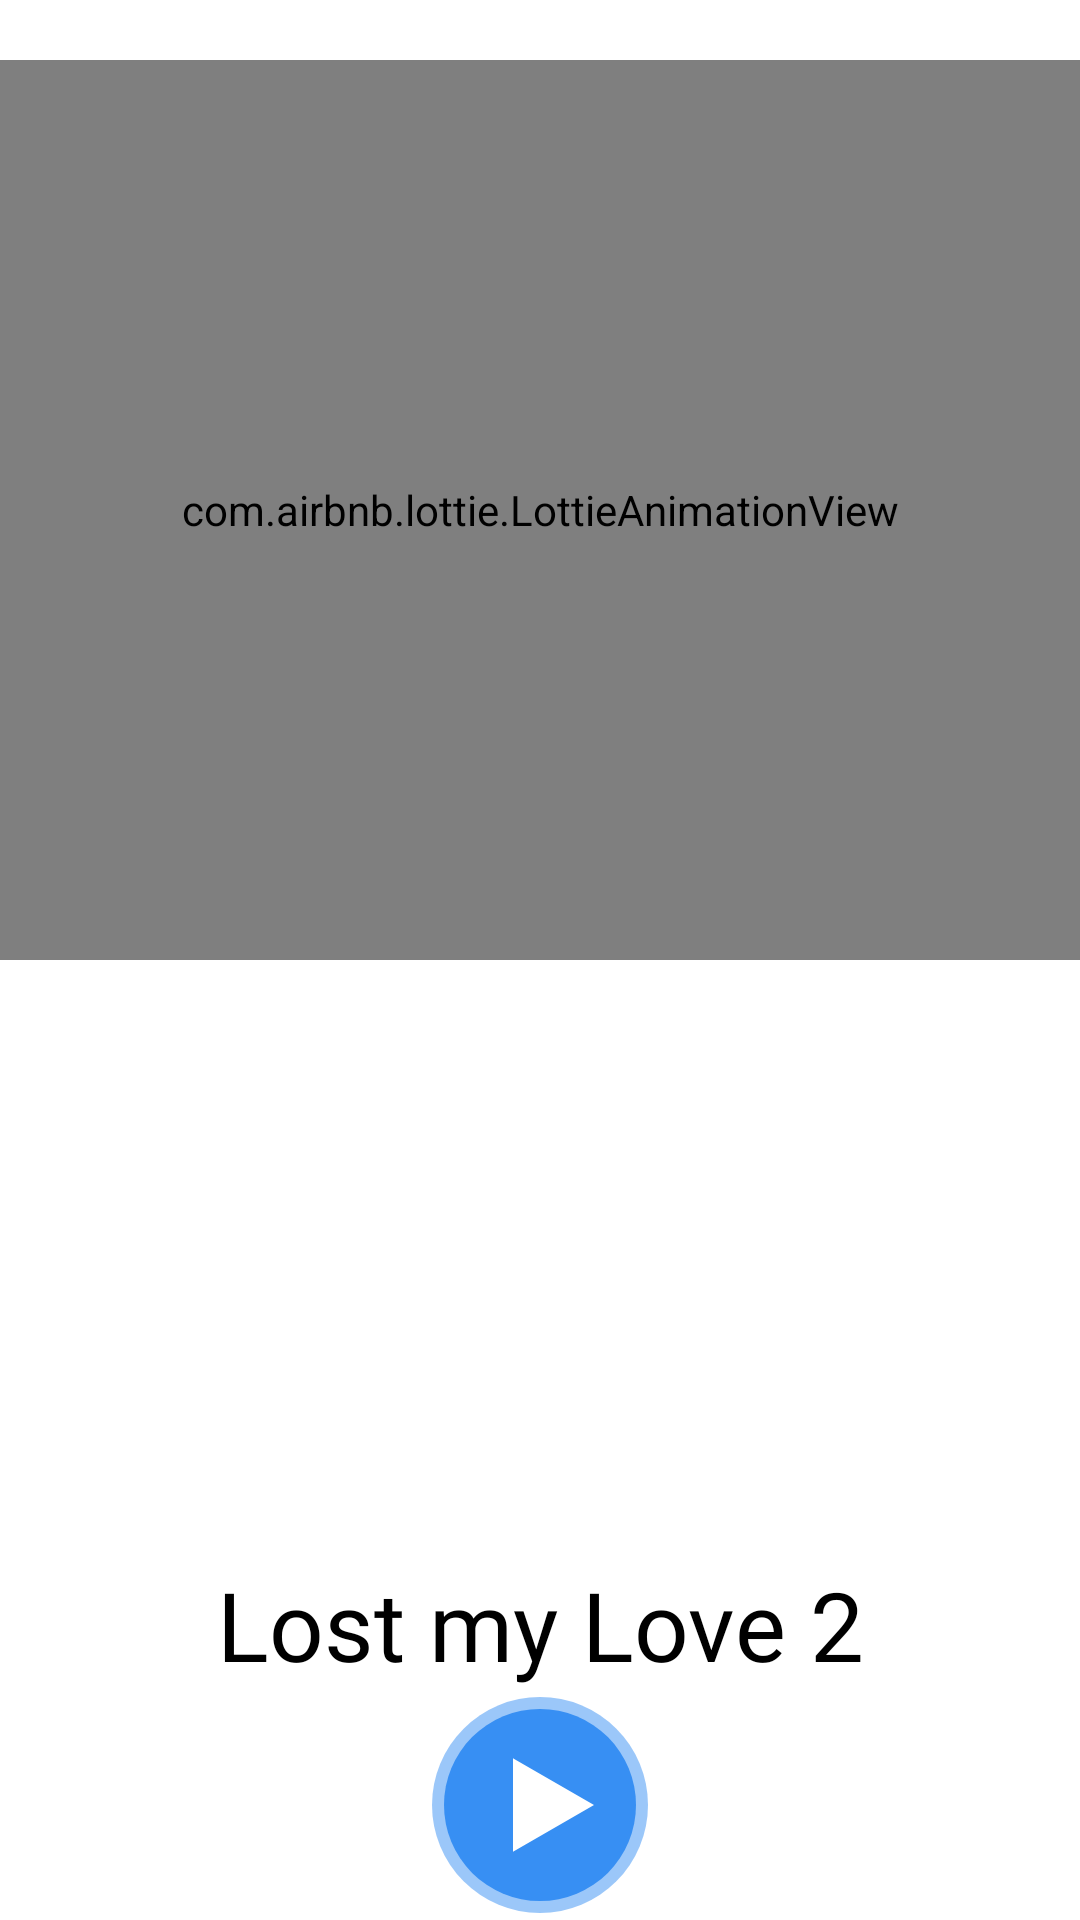

Screen size 1080px×1920px. Icon name, then its box in pixels as detection(x1, y1, x2, y2):
play: detection(432, 1697, 648, 1913)
